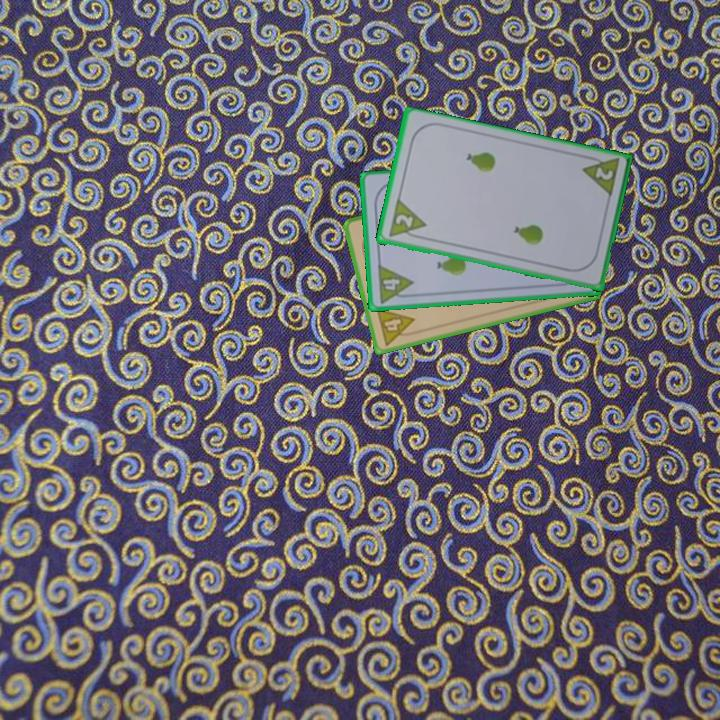2p: (579, 152, 622, 201), (385, 197, 429, 242)
4p: (373, 304, 420, 348), (374, 262, 417, 306)
